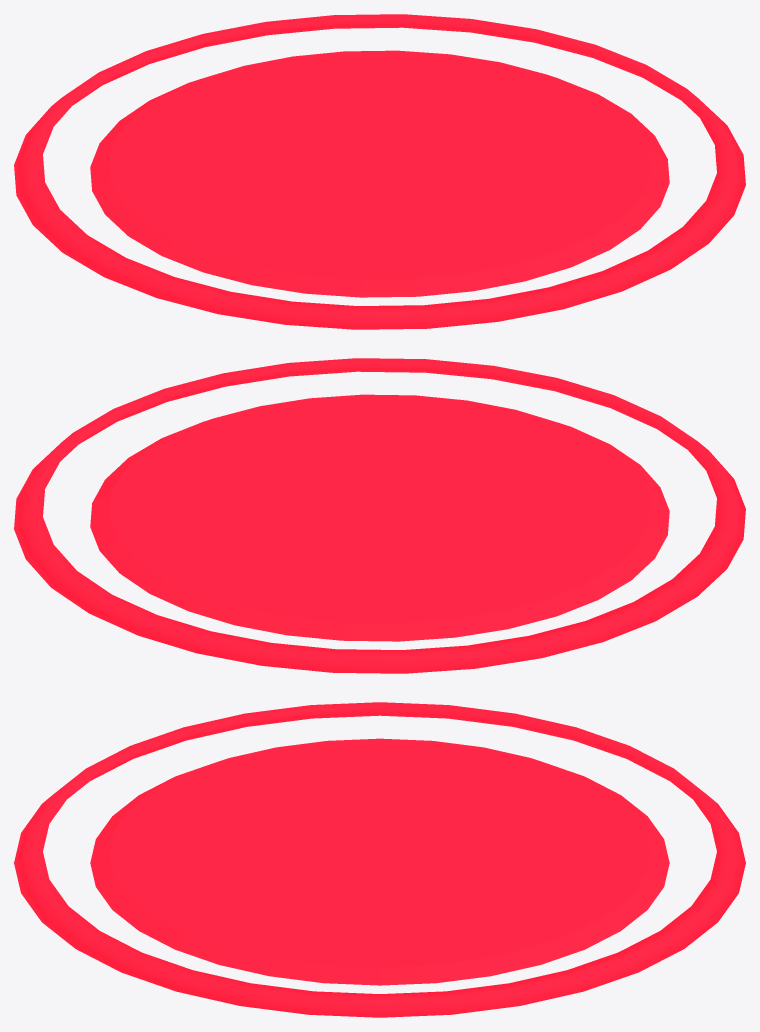
The model's file is portal.glb.
3 renders of one model, top to bottom at view 1: azimuth 30°, elevation 25°; view 2: azimuth 150°, elevation 25°; view 3: azimuth 270°, elevation 25°, orthographic.
Parts seen in each view (by area): view 1: Circle.001, Circle; view 2: Circle.001, Circle; view 3: Circle.001, Circle.
Part boxes in pixels (x1,y1,x2,y2): Circle.001: [90, 50, 669, 297]; Circle: [14, 14, 745, 329]; Circle.001: [90, 394, 669, 641]; Circle: [14, 358, 745, 673]; Circle.001: [90, 738, 669, 985]; Circle: [14, 702, 745, 1017].
Bounding box in the file's own units: 2 × 0.0344 × 2.
